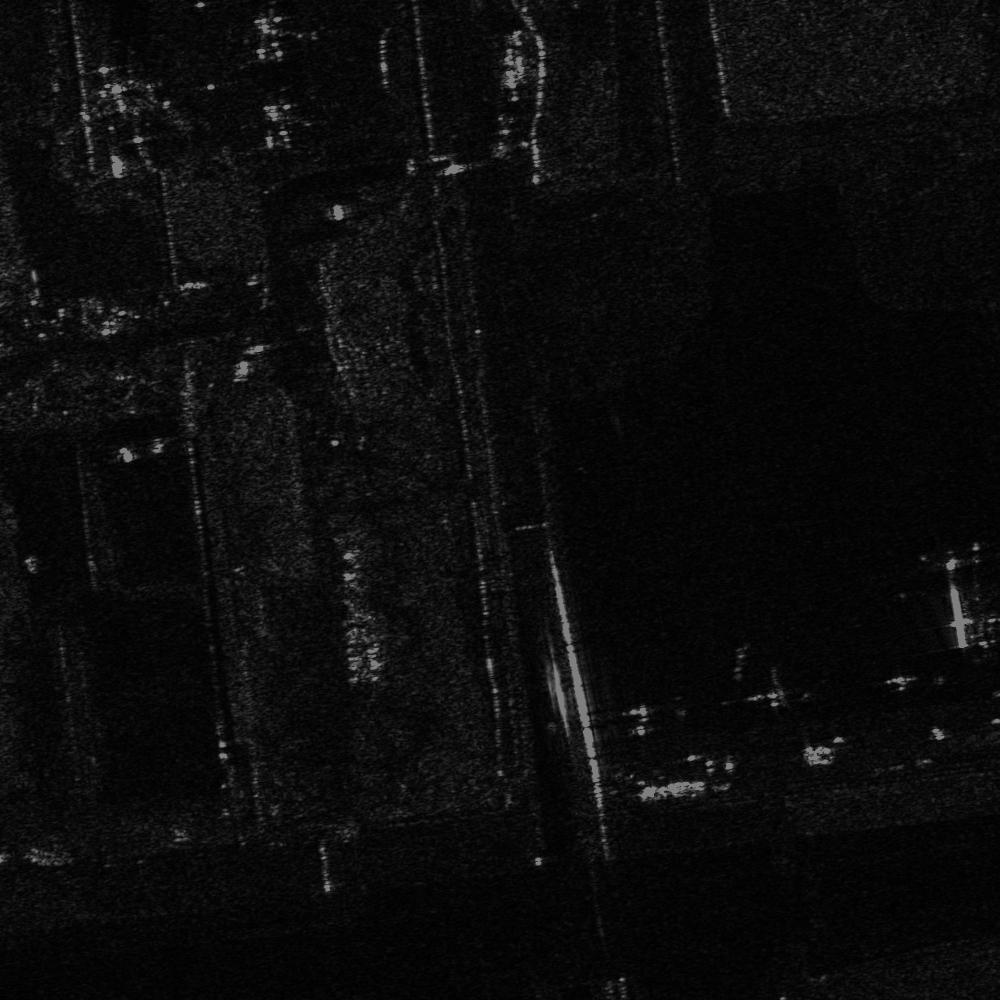Boeing787: (893, 531, 999, 649)
